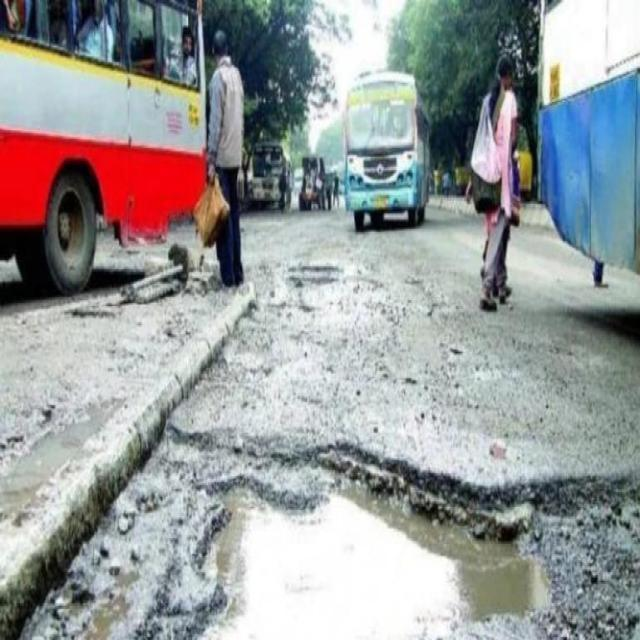Pothole: (25, 440, 640, 638), (259, 262, 414, 321), (405, 276, 466, 326), (491, 440, 509, 461)
